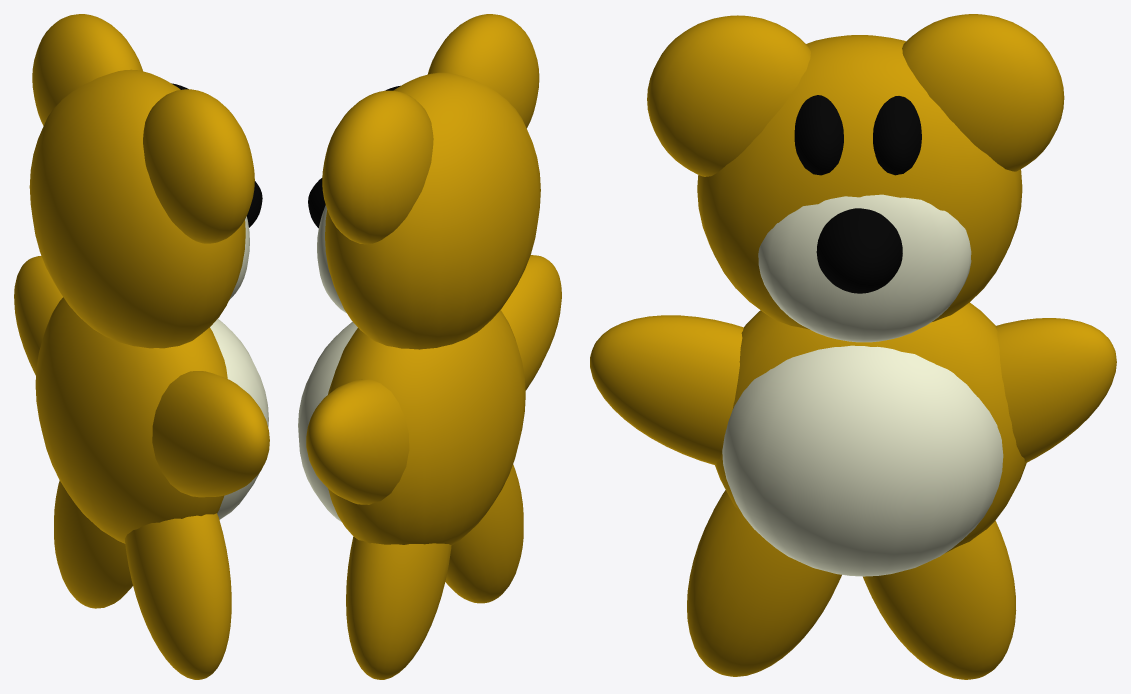
The model's file is bear.glb.
3 views of the same model, side by side, from view 1: azimuth 30°, elevation 25°; view 2: azimuth 150°, elevation 25°; view 3: azimuth 270°, elevation 25° (orthographic). The views are drawn at different scales.
Visible parts, largest first — view 1: Face_Head, Torso, Right_leg, Right_ear, Right_arm, Left_ear, Left_leg, Left_arm, Stomach, _________, Nose; view 2: Face_Head, Torso, Left_ear, Left_leg, Left_arm, Right_ear, Right_leg, Right_arm, Stomach, _________, Nose; view 3: Stomach, Face_Head, _________, Right_ear, Left_ear, Right_leg, Right_arm, Left_leg, Torso, Left_arm, Nose, Right_eye (+1 smaller).
Part boxes in pixels (box(x1,y1,x2,y2)): Face_Head: box(29, 69, 245, 348); Torso: box(35, 297, 227, 543); Right_leg: box(125, 513, 231, 679); Right_ear: box(143, 89, 254, 243); Right_arm: box(152, 371, 269, 497); Left_ear: box(32, 14, 142, 125); Left_leg: box(54, 480, 132, 608); Left_arm: box(14, 255, 62, 375); Stomach: box(210, 319, 268, 519); _________: box(229, 216, 249, 300); Nose: box(247, 181, 262, 227); Face_Head: box(325, 72, 540, 349); Torso: box(328, 310, 525, 544); Left_ear: box(322, 90, 433, 244); Left_leg: box(346, 536, 451, 679); Left_arm: box(306, 379, 409, 504); Right_ear: box(427, 14, 539, 128); Right_leg: box(445, 464, 523, 603); Right_arm: box(501, 255, 561, 390); Stomach: box(298, 321, 357, 521); _________: box(317, 205, 346, 313); Nose: box(308, 178, 325, 227); Stomach: box(722, 345, 1003, 576); Face_Head: box(697, 35, 1022, 329); _________: box(758, 194, 971, 342); Right_ear: box(647, 15, 810, 176); Left_ear: box(902, 14, 1064, 171); Right_leg: box(687, 490, 841, 676); Right_arm: box(590, 315, 743, 465); Left_leg: box(863, 520, 1016, 679); Torso: box(715, 302, 1026, 552); Left_arm: box(995, 318, 1116, 462); Nose: box(816, 208, 902, 293); Right_eye: box(794, 95, 843, 175).
Size of the model in its own units: 0.8168 by 2.24 by 1.62.
